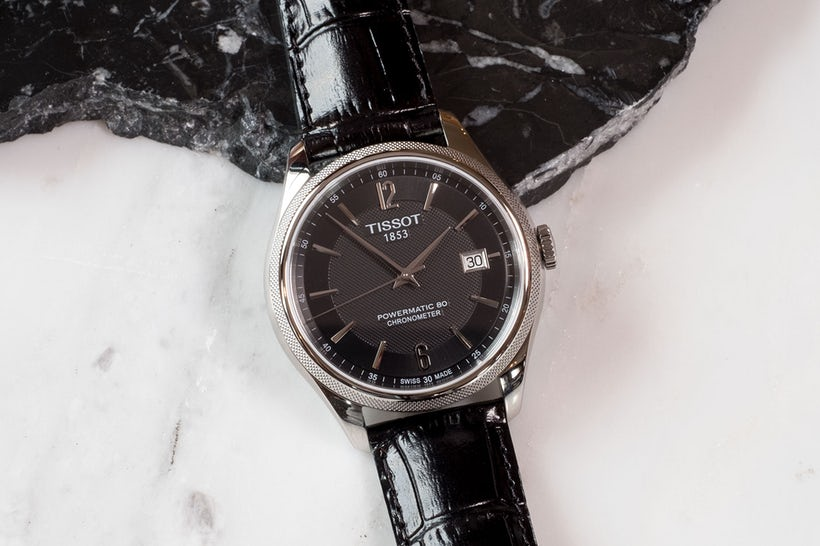clock: (265, 142, 548, 415)
